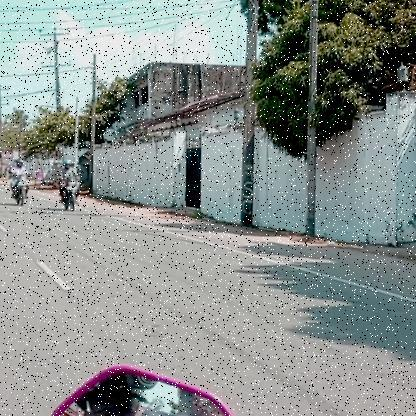motorcycle: (7, 172, 33, 209), (58, 175, 82, 213)
